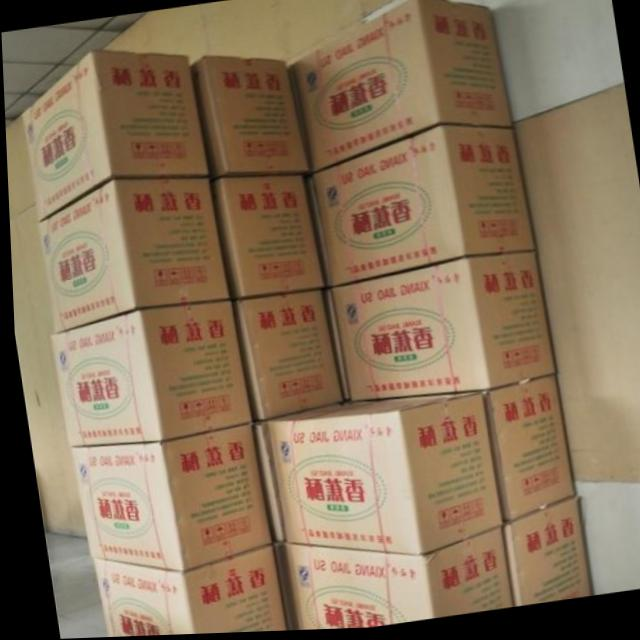box: (264, 395, 499, 559), (294, 0, 510, 175), (310, 127, 532, 288), (327, 253, 554, 403), (19, 50, 204, 220), (65, 425, 267, 572), (48, 300, 248, 448), (38, 180, 225, 334), (277, 529, 509, 632), (87, 549, 280, 638), (229, 291, 338, 424), (194, 55, 310, 179), (213, 178, 321, 299), (485, 375, 571, 524), (496, 502, 588, 610), (243, 420, 278, 548), (312, 287, 346, 405)
